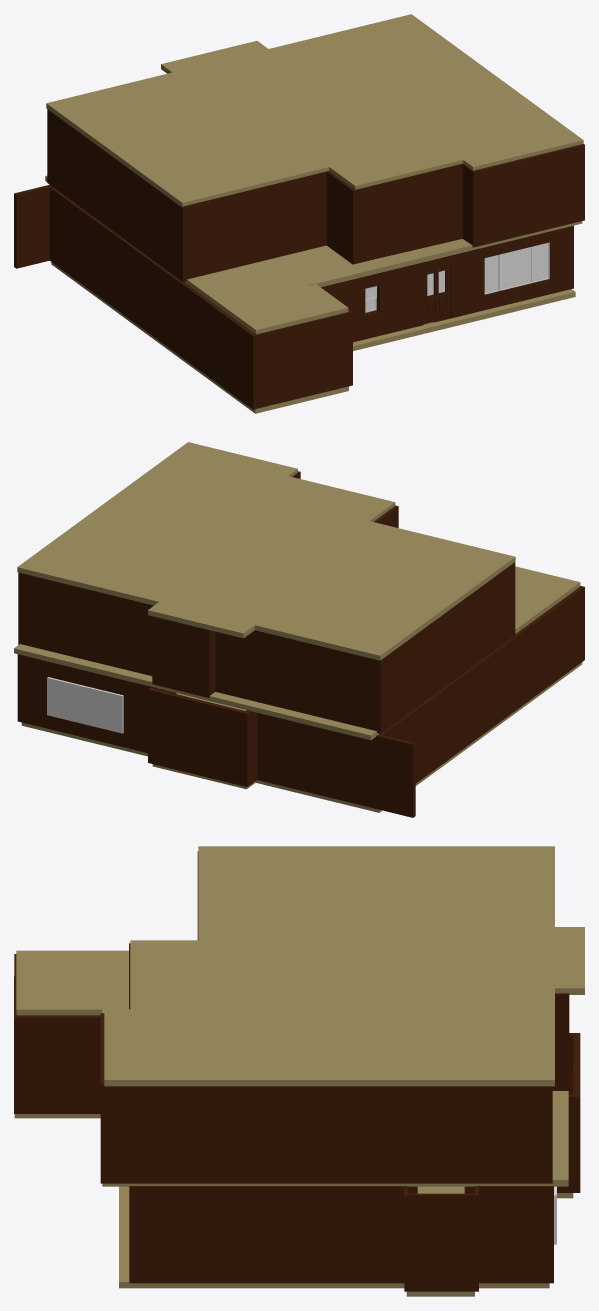
Rendered from house_prototype 2.fbx.
3 views of the same model, one above another, from view 1: azimuth 30°, elevation 25°; view 2: azimuth 150°, elevation 25°; view 3: azimuth 270°, elevation 25° (orthographic). The views are drawn at different scales.
Visible parts, largest first — view 1: Ceiling 2.001, Sphere.008, Cube.004; view 2: Ceiling 2.001, Cube.061; view 3: Ceiling 2.001.
Boxes of the visible parts, x1,y1,x2,y2 form: Ceiling 2.001: (14, 14, 584, 413); Sphere.008: (484, 242, 549, 294); Cube.004: (423, 266, 450, 324); Ceiling 2.001: (14, 442, 584, 817); Cube.061: (47, 677, 123, 733); Ceiling 2.001: (14, 846, 584, 1296).
Size of the model in its own units: 34272 by 12782 by 31485.
